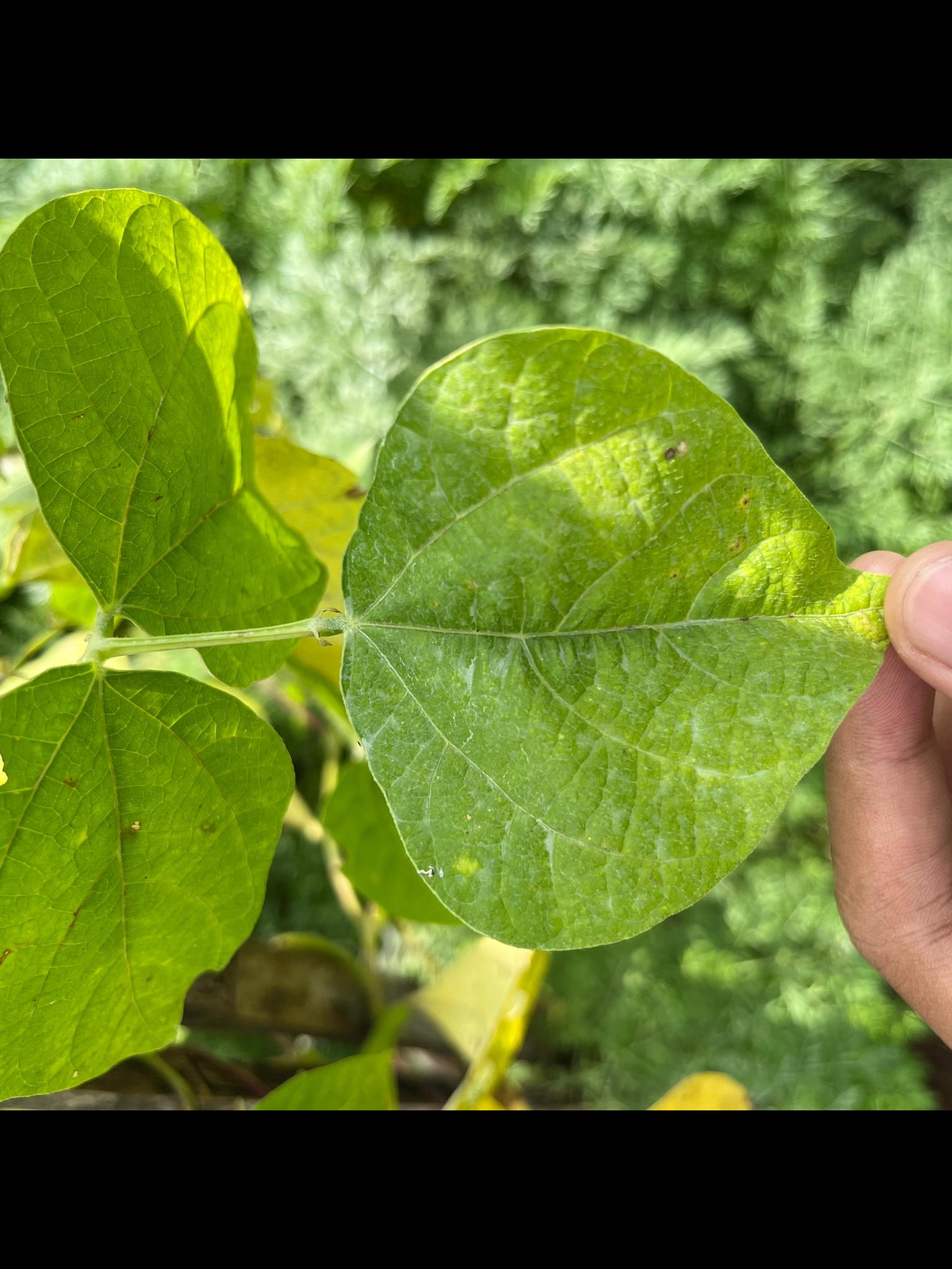sehat: (337, 349, 879, 938)
